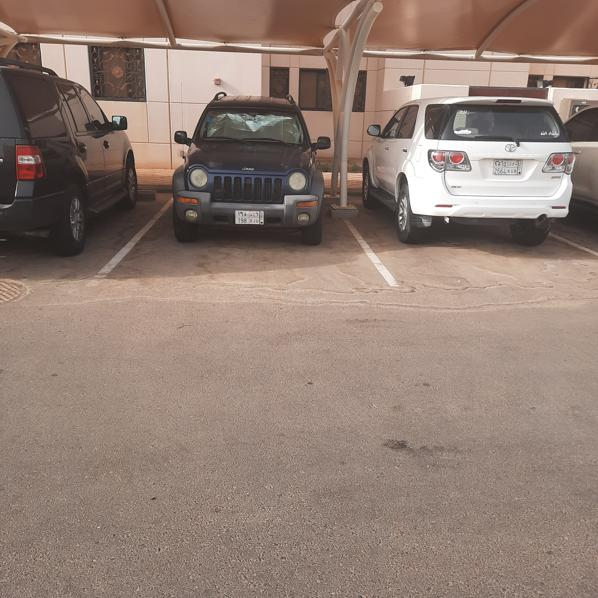numberplate: (235, 210, 264, 225)
